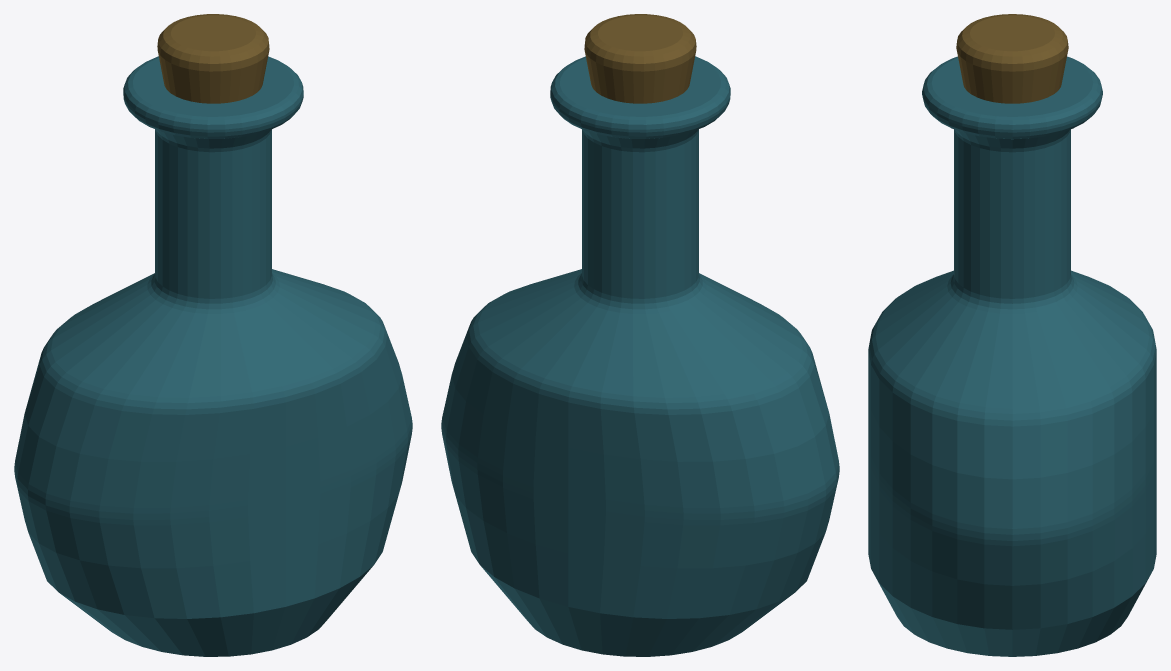
File: SM_Prop_pocion (3).fbx
The picture shows the model from 3 angles, left to right: view 1: azimuth 30°, elevation 25°; view 2: azimuth 150°, elevation 25°; view 3: azimuth 270°, elevation 25°; orthographic projection.
Visible parts, largest first — view 1: botella 2; view 2: botella 2; view 3: botella 2.
Part boxes in pixels (<box>): botella 2: <box>14,14,412,656</box>; botella 2: <box>441,14,839,656</box>; botella 2: <box>868,14,1156,656</box>.
Bounding box in the file's own units: 45.42 × 67.15 × 30.58.
